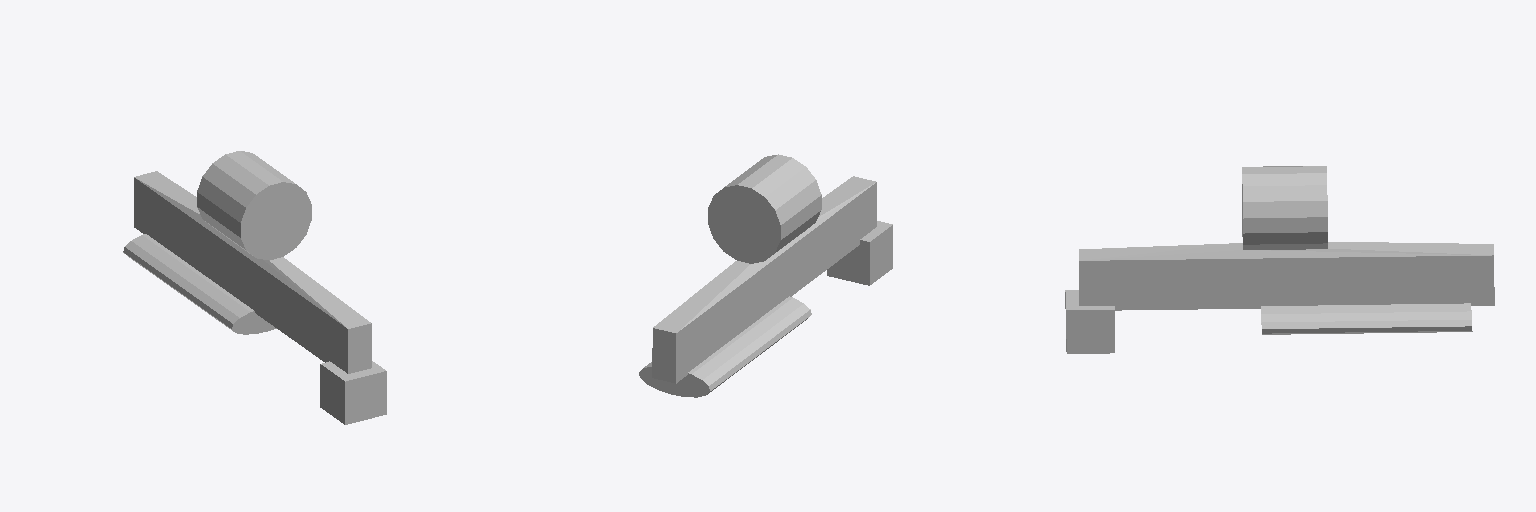
The model's file is rifle.obj.
3 views of the same model, side by side, from view 1: azimuth 30°, elevation 25°; view 2: azimuth 150°, elevation 25°; view 3: azimuth 270°, elevation 25° (orthographic).
Visible parts, largest first — view 1: cube1; view 2: cube1; view 3: cube1.
Boxes of the visible parts, box(x1,y1,x2,y2) form: cube1: box(123, 151, 386, 424); cube1: box(639, 154, 892, 397); cube1: box(1065, 166, 1494, 353).
Bounding box in the file's own units: 0.4175 × 0.9186 × 2.07.